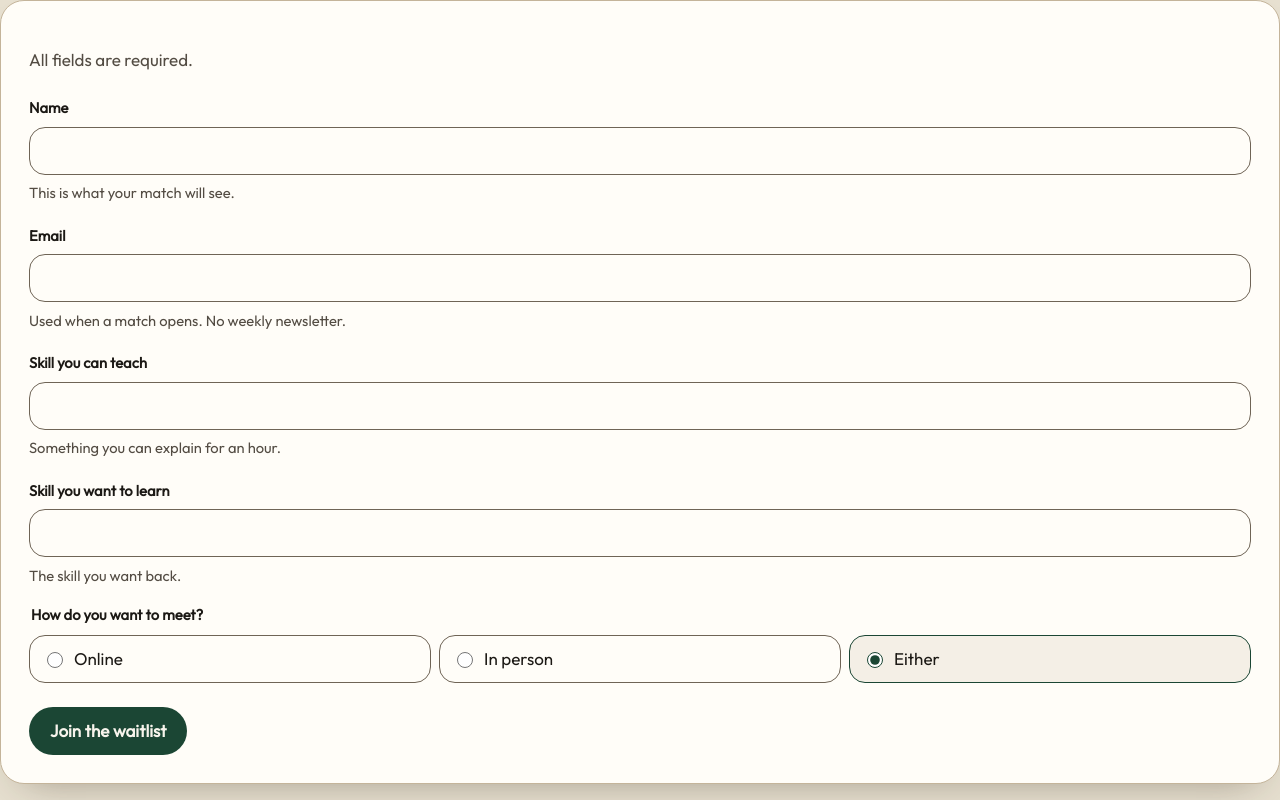
waitlist form validation › returns to the saved answers when the person edits them
The width and height of the screenshot is (1280, 800).
Type "Maya Chen" into the field labelled "Name" at (640, 151), box [29,127,1251,175]
Type "maya@example.com" into the field labelled "Email" at (640, 278), box [29,254,1251,302]
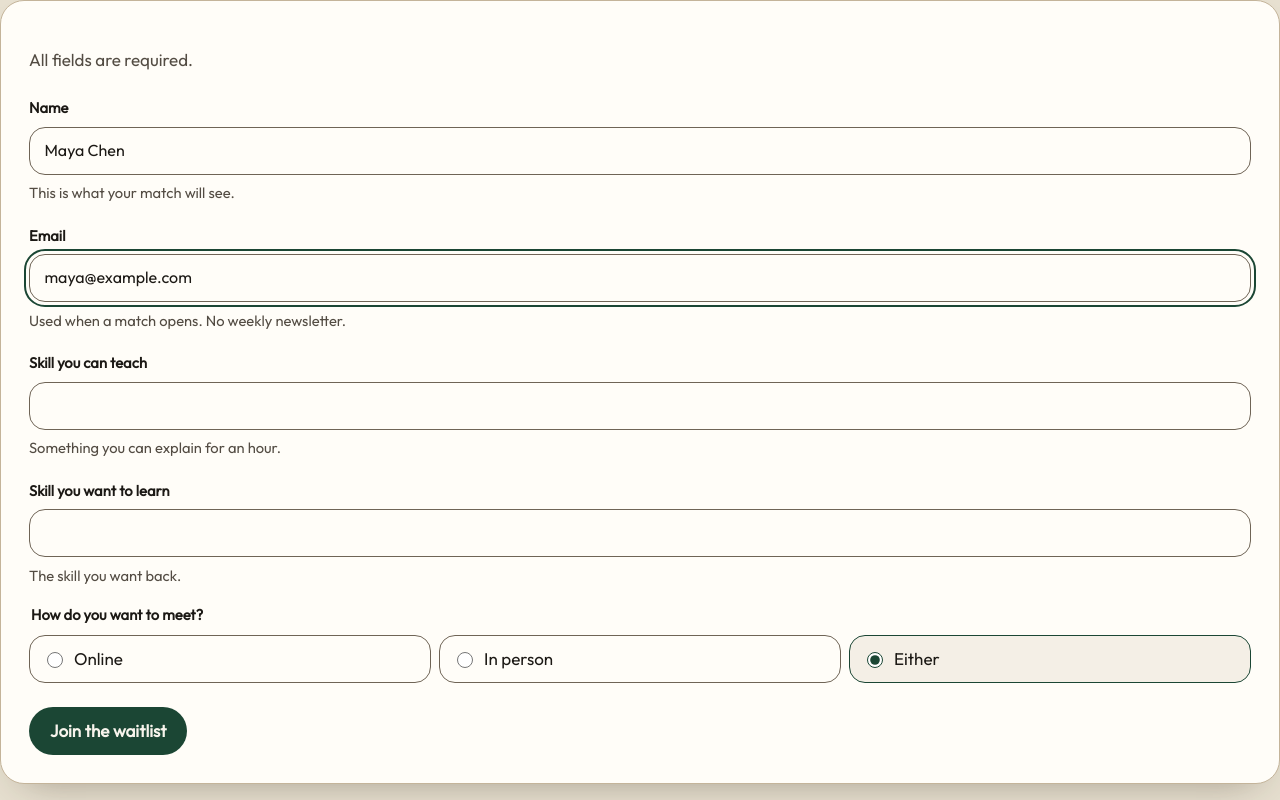
Type "Lab demos" into the field labelled "Skill you can teach" at (640, 406), box [29,382,1251,430]
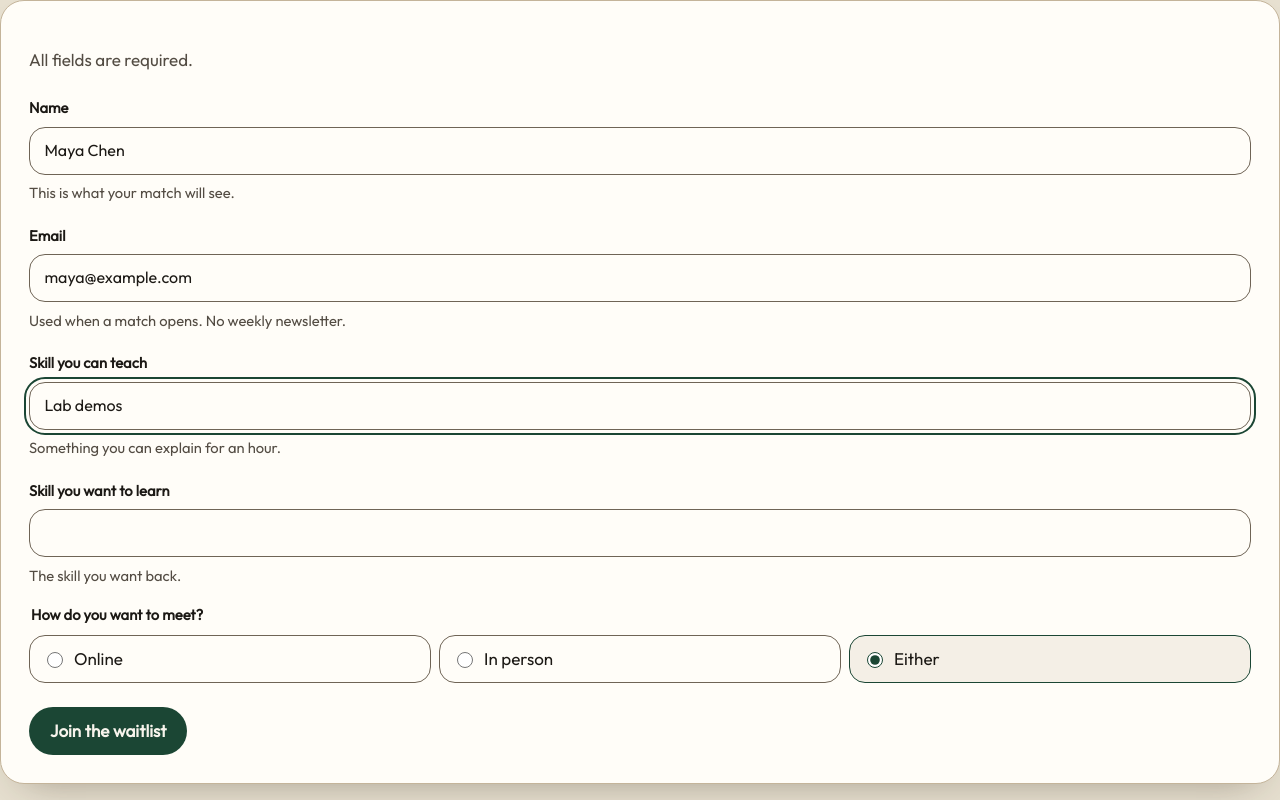
Type "Wheel throwing" into the field labelled "Skill you want to learn" at (640, 533), box [29,509,1251,557]
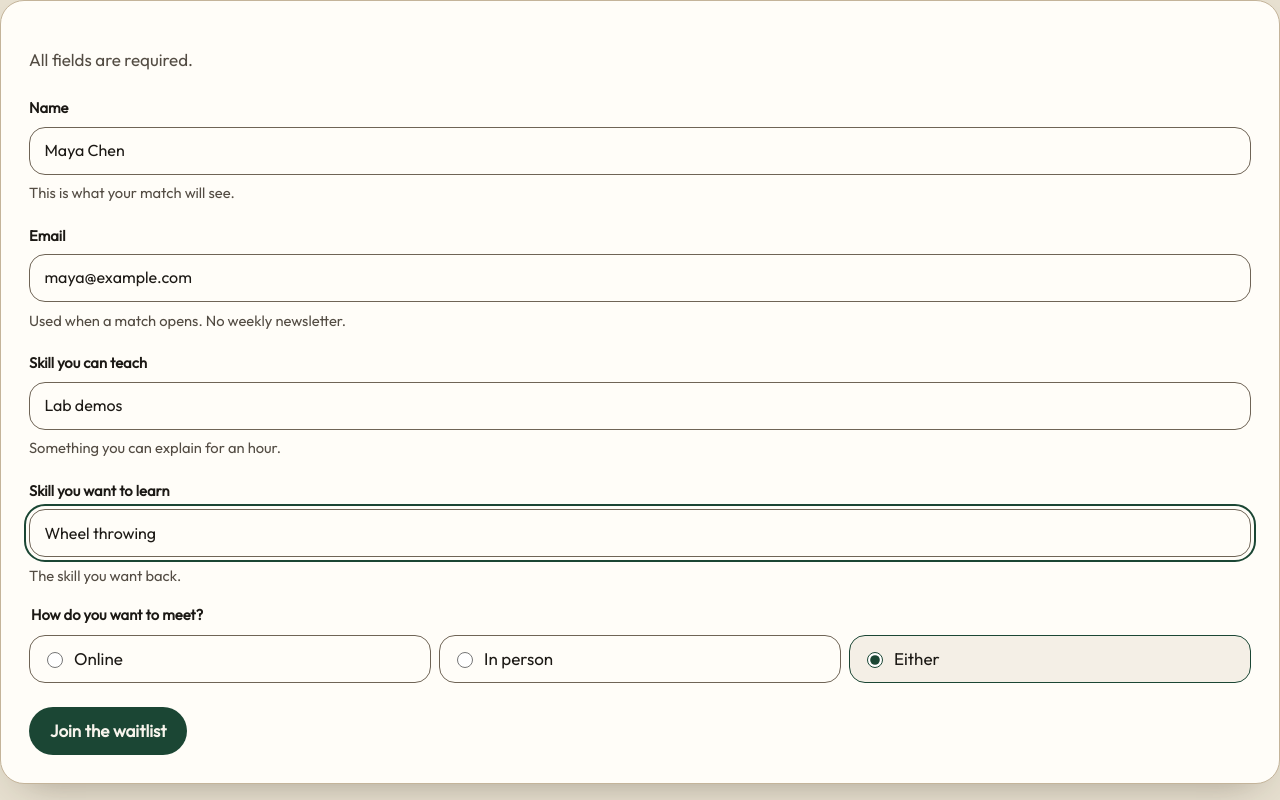
Click the radio button labelled "Online" at (55, 660), box [47,652,63,668]
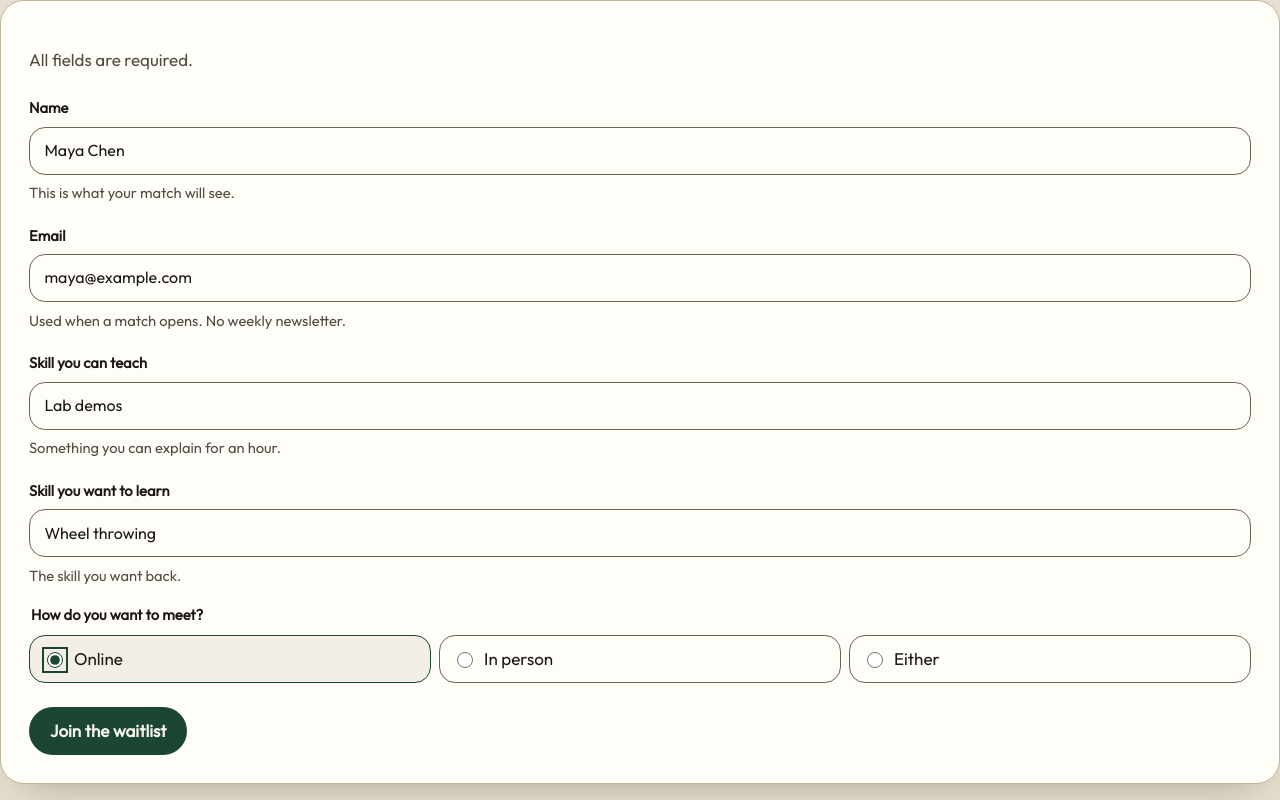
Click the button "Join the waitlist" at (108, 731), box [29,707,188,755]
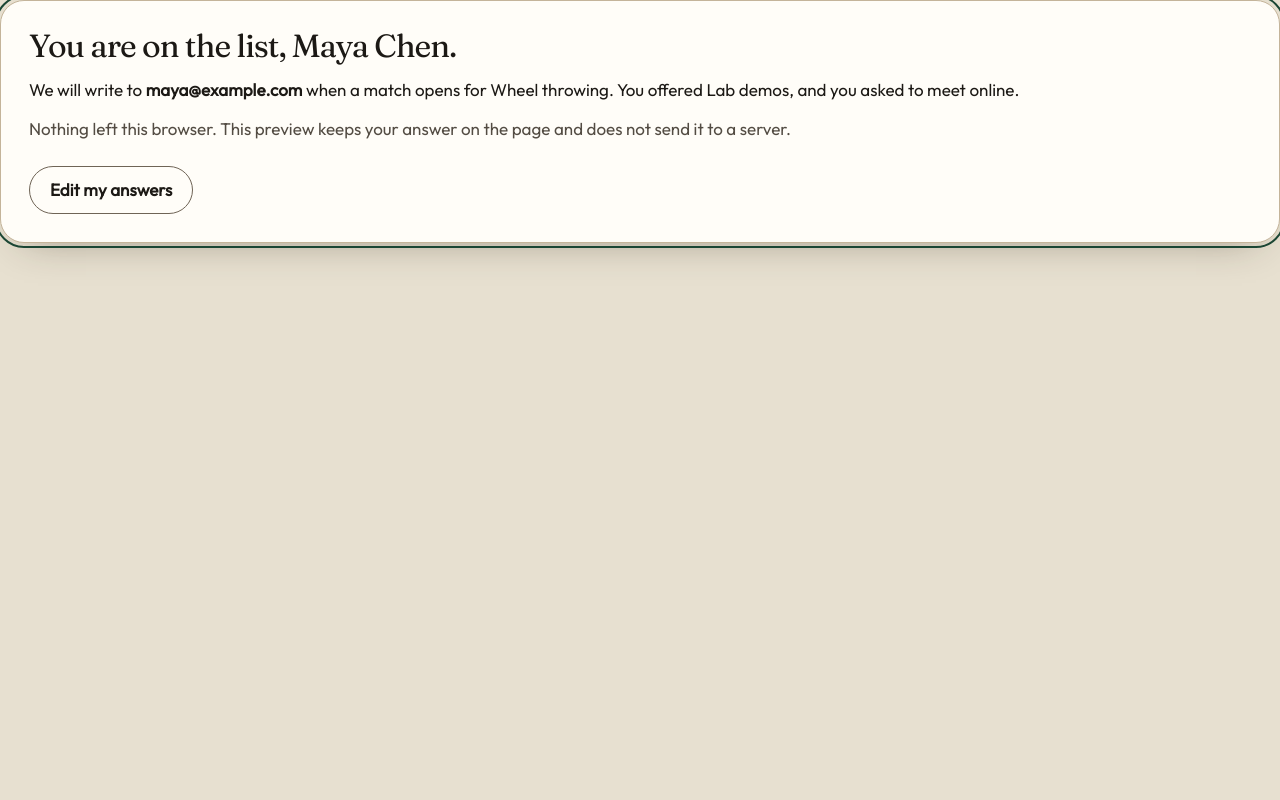
Click the button "Edit my answers" at (111, 190), box [29,166,193,214]
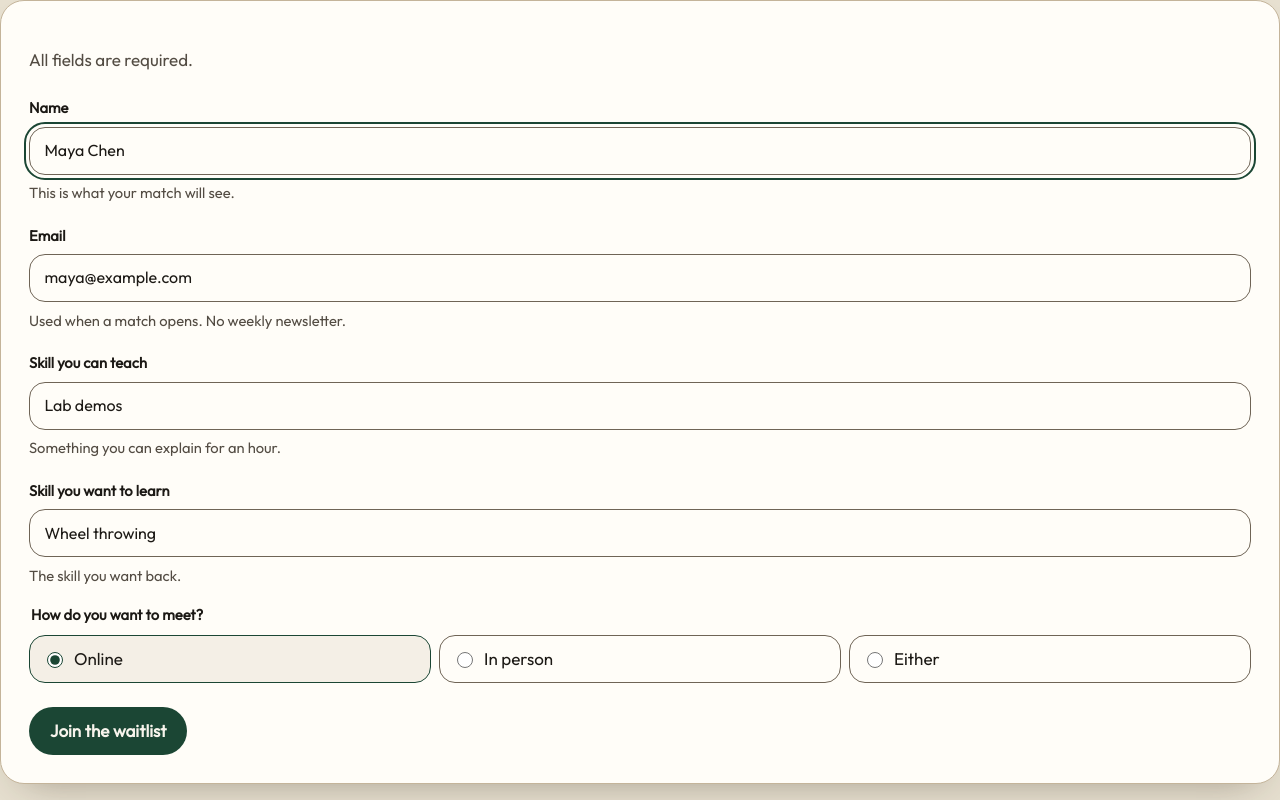
Now the field labelled "Email" holds "maya@example.com", box [29,254,1251,302]
Now the field labelled "Skill you can teach" holds "Lab demos", box [29,382,1251,430]
Now the radio button labelled "Online" is checked, box [47,652,63,668]
